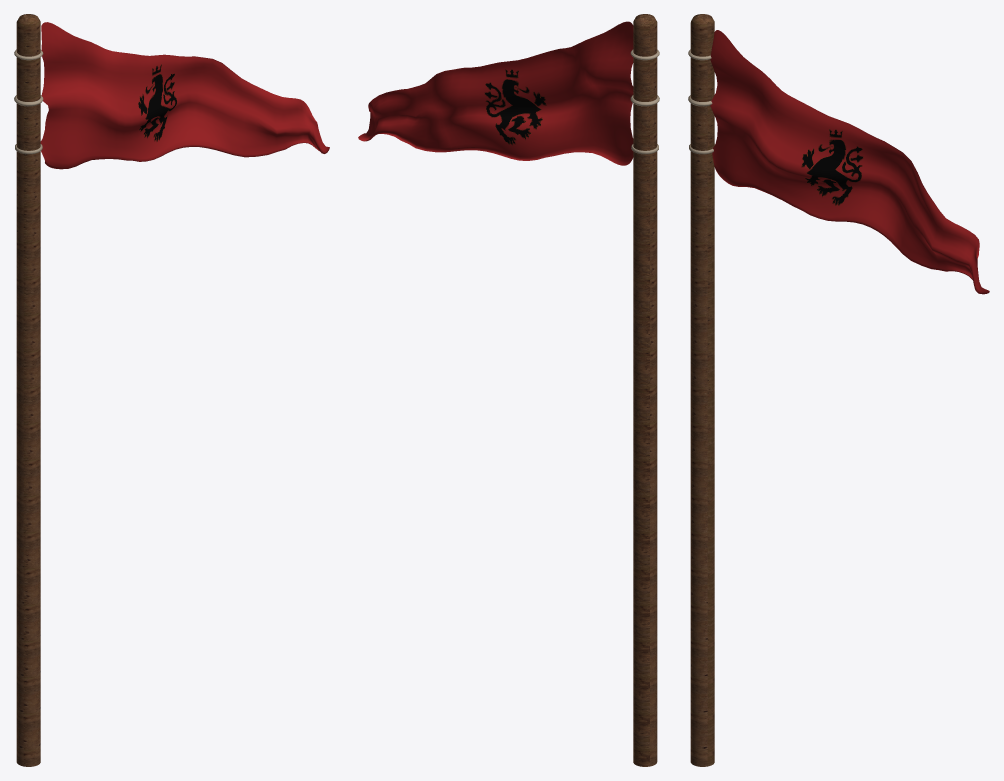
The model's file is banner.glb.
3 renders of one model, left to right at view 1: azimuth 30°, elevation 25°; view 2: azimuth 150°, elevation 25°; view 3: azimuth 330°, elevation 25°, orthographic.
Parts seen in each view (by area): view 1: flag1, wood; view 2: flag1, wood; view 3: flag1, wood.
Part boxes in pixels (x1,y1,x2,y2): flag1: [40, 22, 329, 169]; wood: [14, 14, 43, 766]; flag1: [358, 21, 633, 165]; wood: [630, 14, 659, 766]; flag1: [710, 30, 989, 294]; wood: [688, 14, 715, 766].
Size of the model in its own units: 1.59 by 3.7 by 0.2137.
4 materials, 3 textured.
